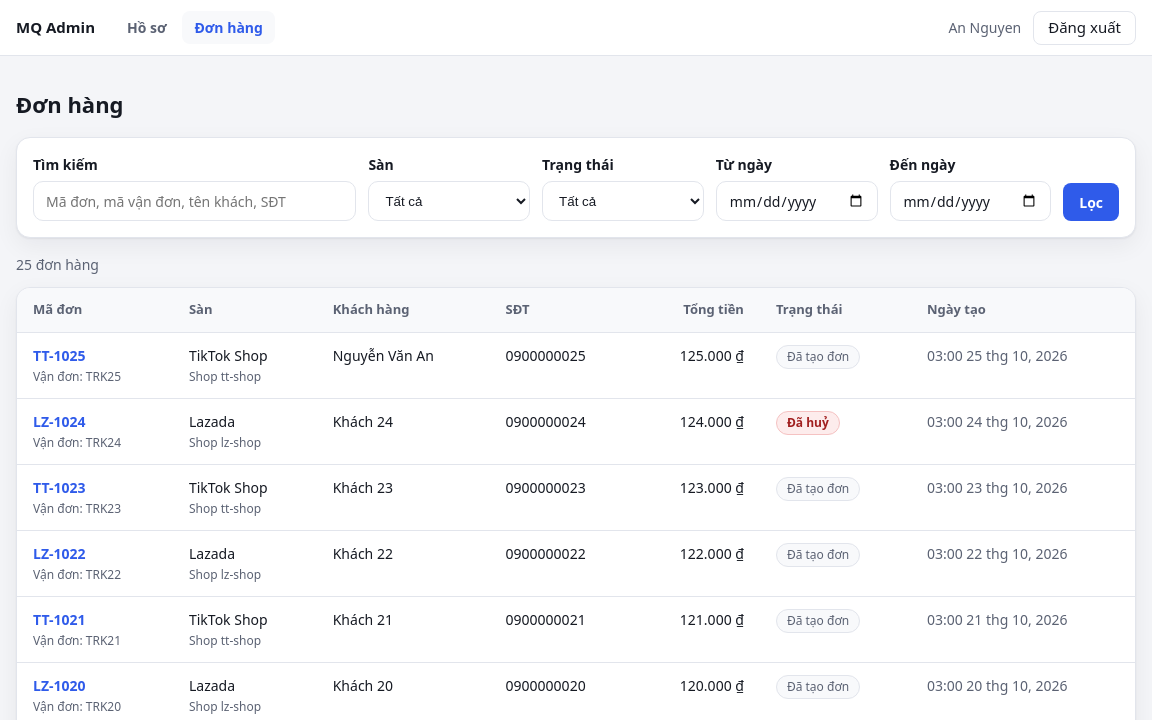
OrdersPage › applies filters through the URL and the API query
The width and height of the screenshot is (1152, 720).
Expected: the heading "Đơn hàng" is shown, [16,89,124,119]
Type "Nguyễn" into the search field labelled "Tìm kiếm".
click(195, 201); type("Nguyễn")  # box [33,181,356,221]
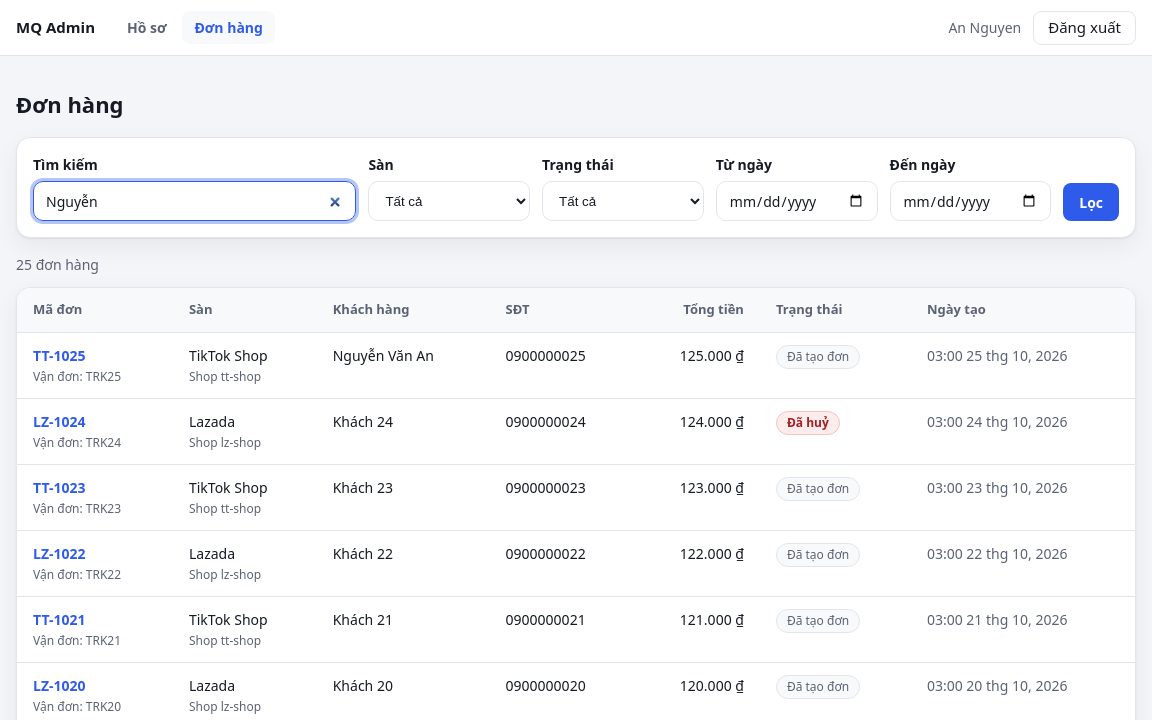
Select "TikTok Shop" in the dropdown labelled "Sàn" at {"x": 449, "y": 201}, box [368,181,530,221]
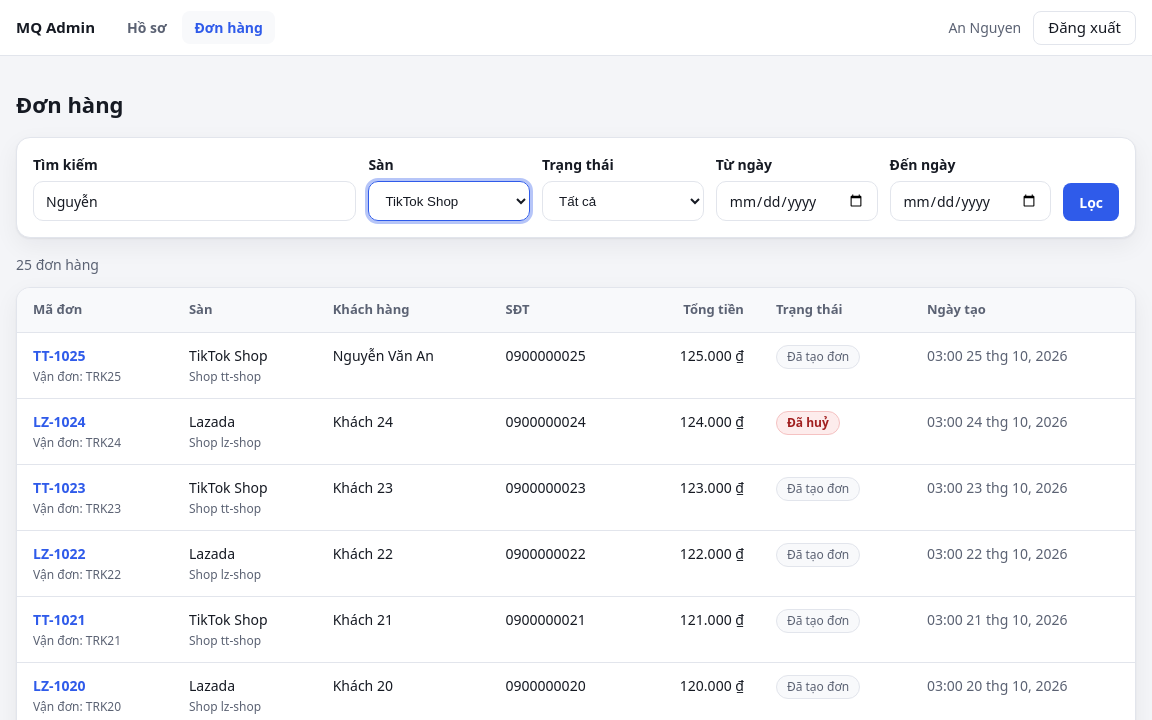
Select "Đã tạo đơn" in the dropdown labelled "Trạng thái" at {"x": 623, "y": 201}, box [542,181,704,221]
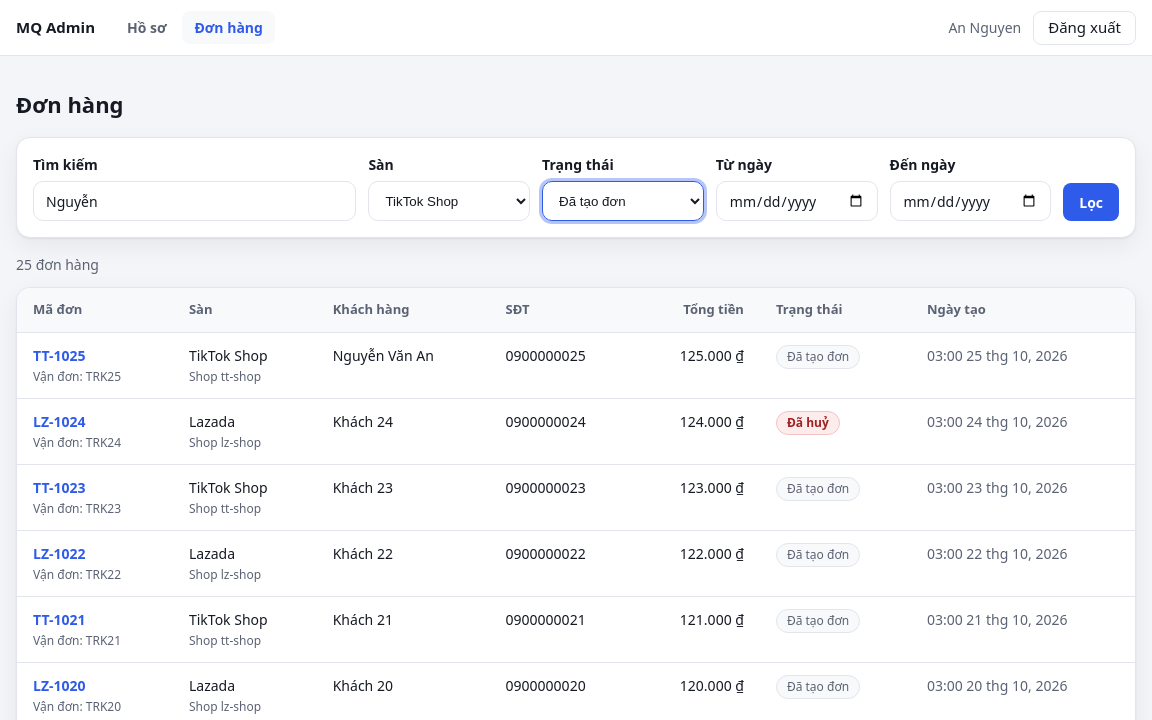
Type "2026-10-01" into the date field labelled "Từ ngày".
click(797, 201); type("2026-10-01")  # box [716,181,878,221]
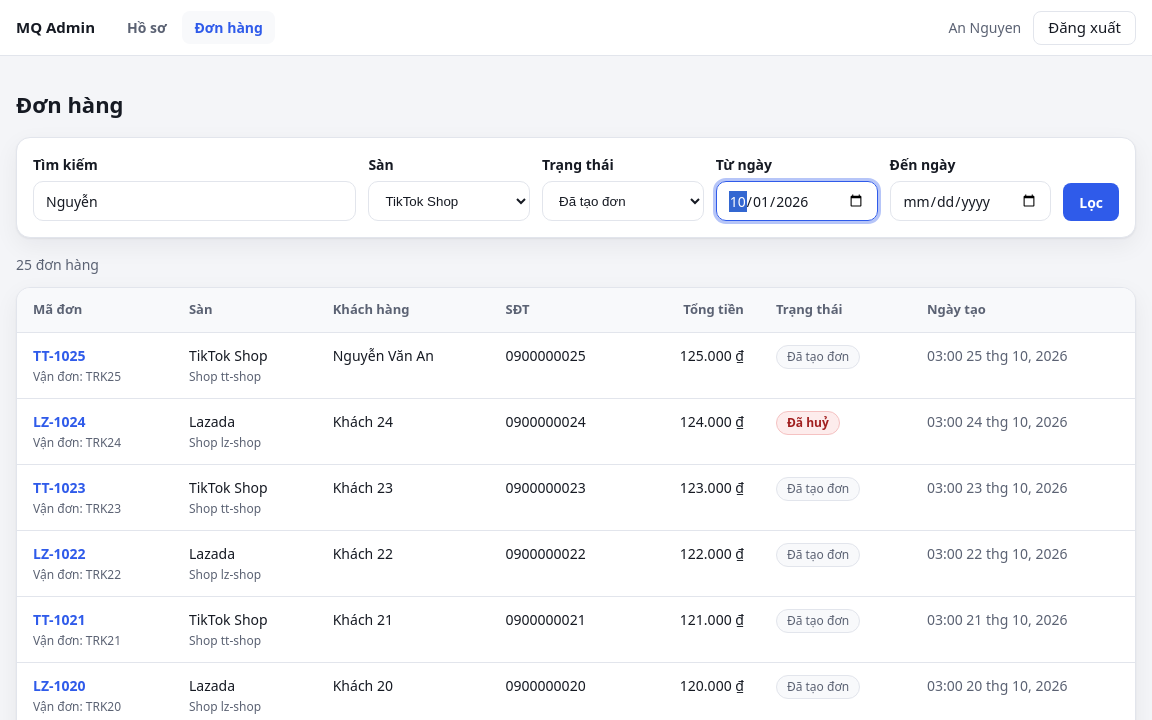
Click the button "Lọc".
click(1091, 202)  # box [1063,183,1119,221]
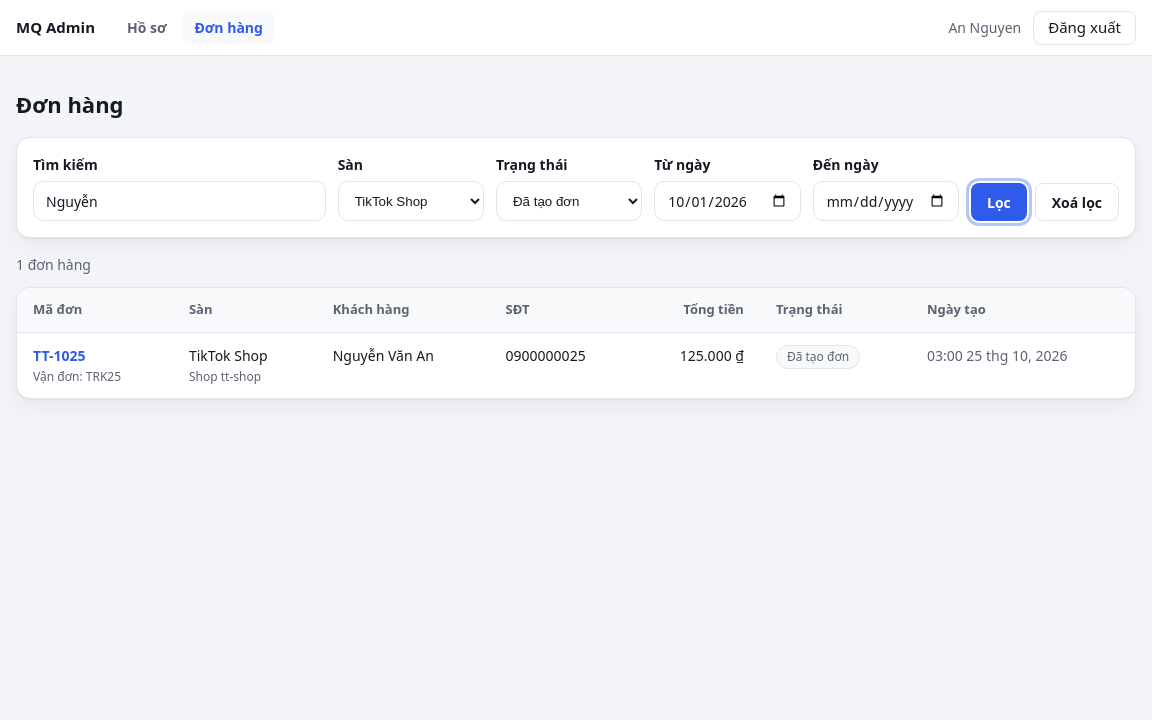
Expected: the message reads "1 đơn hàng", [16,255,91,274]
Click the button "Xoá lọc".
click(1077, 202)  # box [1035,183,1119,221]
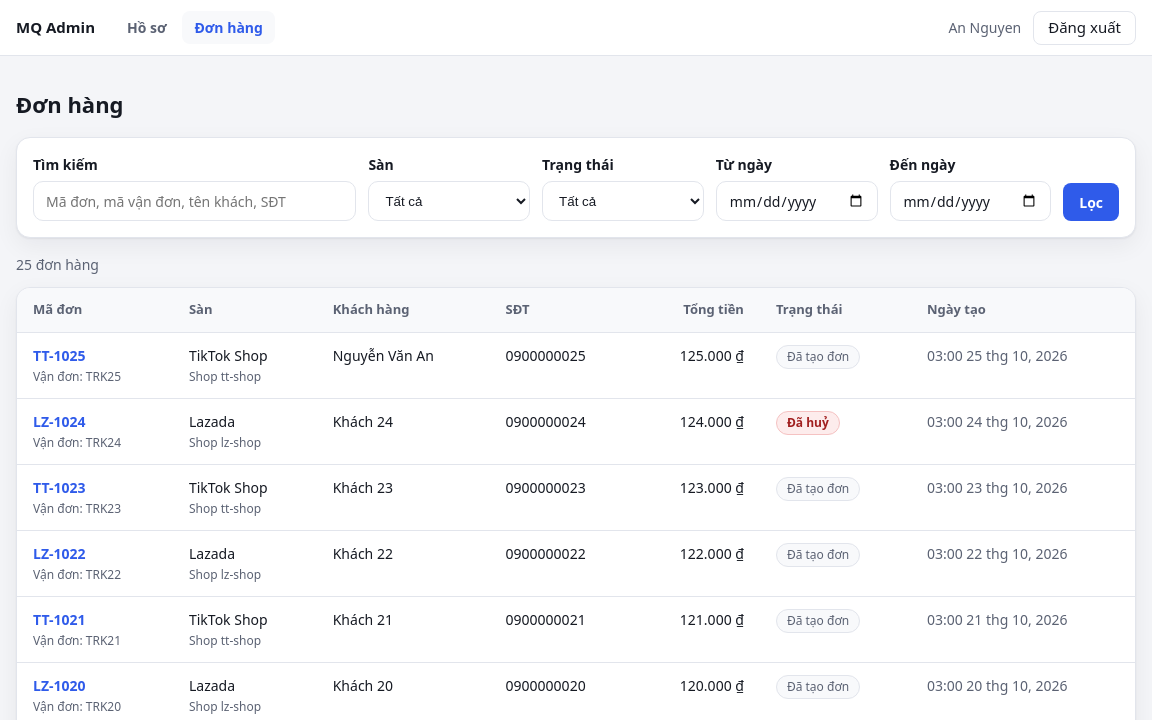
Expected: the message reads "25 đơn hàng", [16,255,99,274]
Expected: the search field labelled "Tìm kiếm" is empty, [33,181,356,221]
